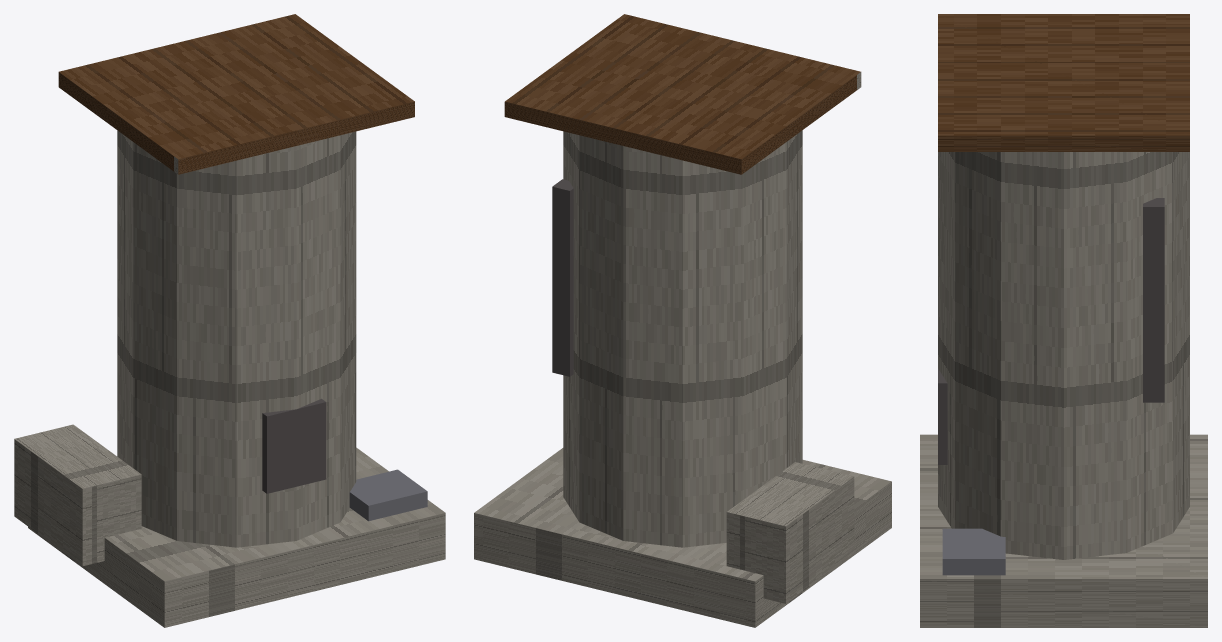
Rendered from blast_furnace.glb.
The picture shows the model from 3 angles, left to right: view 1: azimuth 30°, elevation 25°; view 2: azimuth 150°, elevation 25°; view 3: azimuth 270°, elevation 25°; orthographic projection. The views are drawn at different scales.
Parts seen in each view (by area): view 1: Turm, Buehne, Sockel.025, Treppe.001, Maul.001, Kohle.002; view 2: Turm, Buehne, Sockel.025, Treppe.001, Rohr0; view 3: Turm, Buehne, Sockel.025, Rohr0, Kohle.002, Maul.001.
Boxes of the visible parts, x1,y1,x2,y2 form: Turm: (117,130,356,547); Buehne: (58,14,414,174); Sockel.025: (28,447,445,627); Treppe.001: (14,424,141,566); Maul.001: (262,399,326,493); Kohle.002: (349,469,427,521); Turm: (563,130,802,547); Buehne: (504,14,861,174); Sockel.025: (474,448,891,627); Treppe.001: (726,462,854,603); Rohr0: (552,179,573,376); Turm: (938,152,1189,559); Buehne: (938,14,1189,151); Sockel.025: (920,434,1207,627); Rohr0: (1143,198,1164,402); Kohle.002: (942,528,1005,575); Maul.001: (938,368,947,464).
Size of the model in its own units: 2.05 by 2.95 by 1.6.
Materials: 5 (2 with a texture image).
